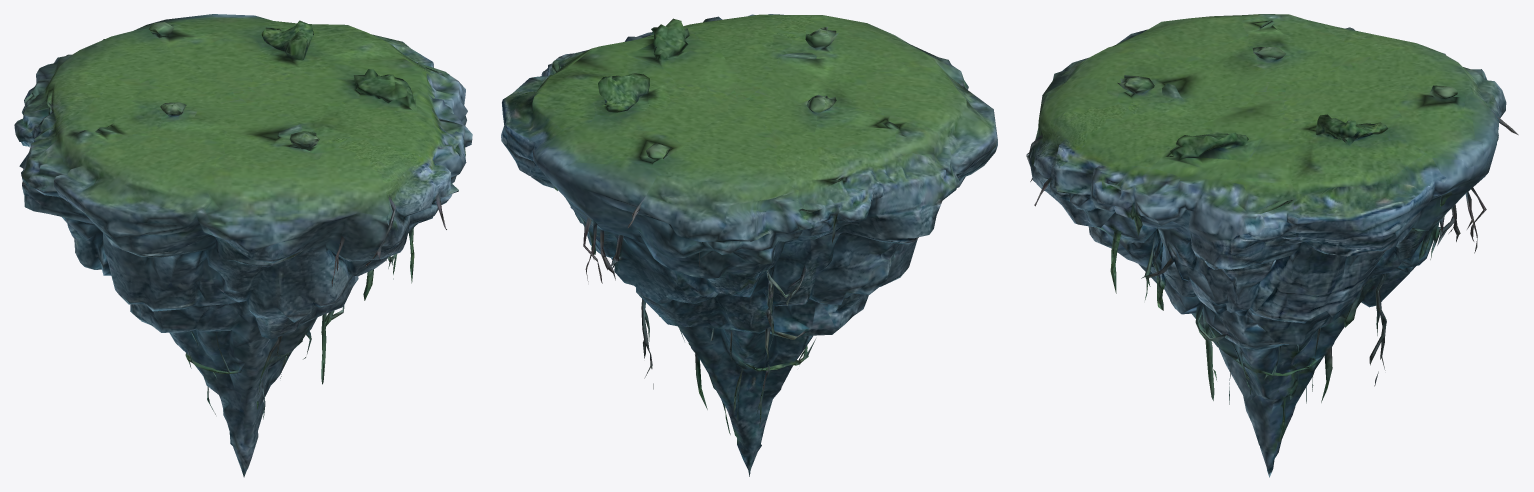
Rendered from floating_isle_a.lod1.glb.
3 renders of one model, left to right at view 1: azimuth 30°, elevation 25°; view 2: azimuth 150°, elevation 25°; view 3: azimuth 270°, elevation 25°, orthographic.
Parts seen in each view (by area): view 1: tripo_node_59dca33b-a119-4b07-aabb-47cebeadebd3; view 2: tripo_node_59dca33b-a119-4b07-aabb-47cebeadebd3; view 3: tripo_node_59dca33b-a119-4b07-aabb-47cebeadebd3.
Boxes of the visible parts, x1,y1,x2,y2 form: tripo_node_59dca33b-a119-4b07-aabb-47cebeadebd3: (14, 14, 472, 477); tripo_node_59dca33b-a119-4b07-aabb-47cebeadebd3: (501, 14, 997, 476); tripo_node_59dca33b-a119-4b07-aabb-47cebeadebd3: (1026, 14, 1518, 477).
Size of the model in its own units: 0.9691 by 0.8812 by 0.9714.
Materials: 1 (1 with a texture image).
